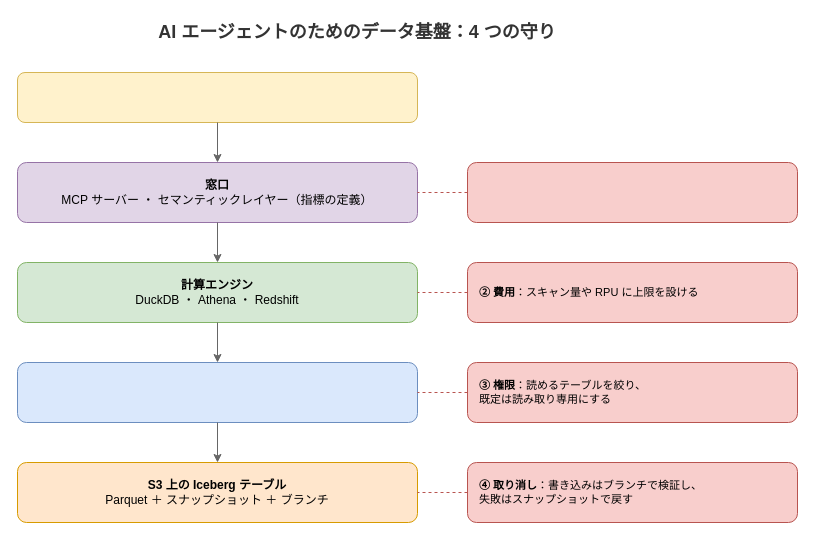
The diagram is 815 pixels wide and 540 high, and some of its shapes have lost their labels. The shapes that lost their labels are listed below. From the top down, each one's centre as x and y in pixels, then its label:
At (217,97): "AI エージェント".
At (632,192): "① 意味 ：列や指標の定義を渡し、 LLM に計算させない".
At (217,392): "カタログ Glue Data Catalog ・ S3 Tables ・ Iceberg REST カタログ".
